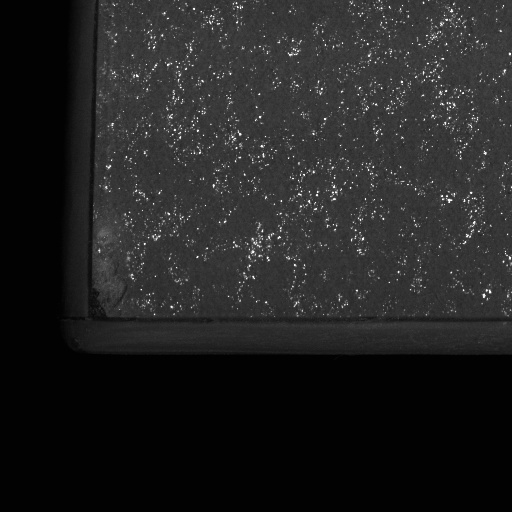bengque: (84, 286, 110, 322)
